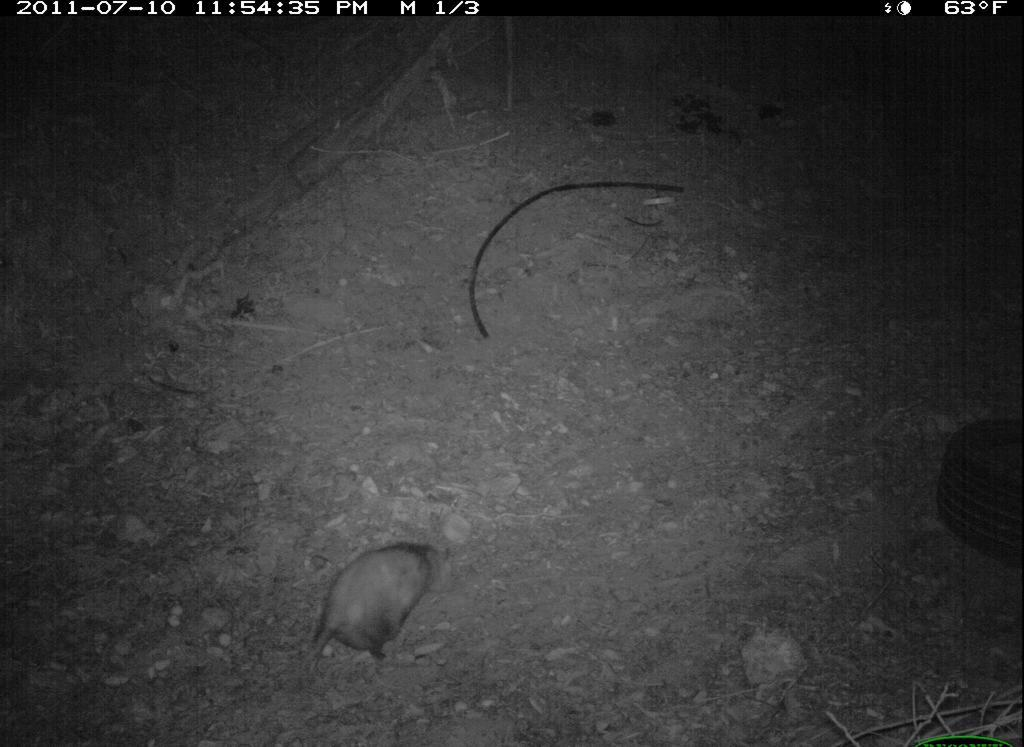opossum: (257, 533, 456, 701)
